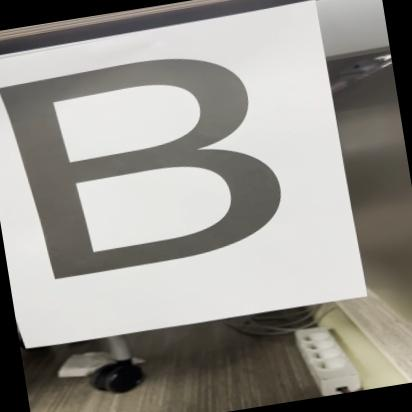seat: (0, 26, 314, 298)
